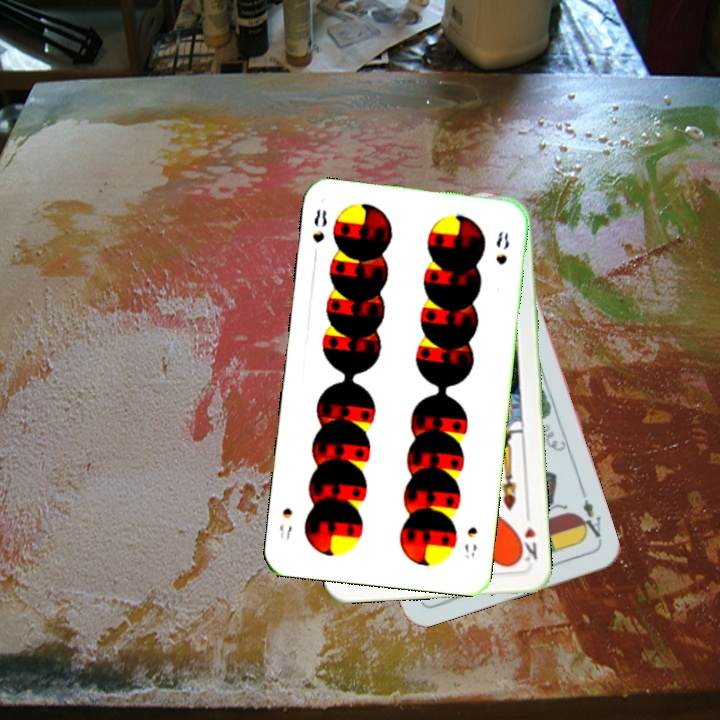EA: (573, 487, 605, 545)
HK: (514, 522, 540, 565)
S8: (308, 205, 330, 246), (460, 522, 480, 561)
